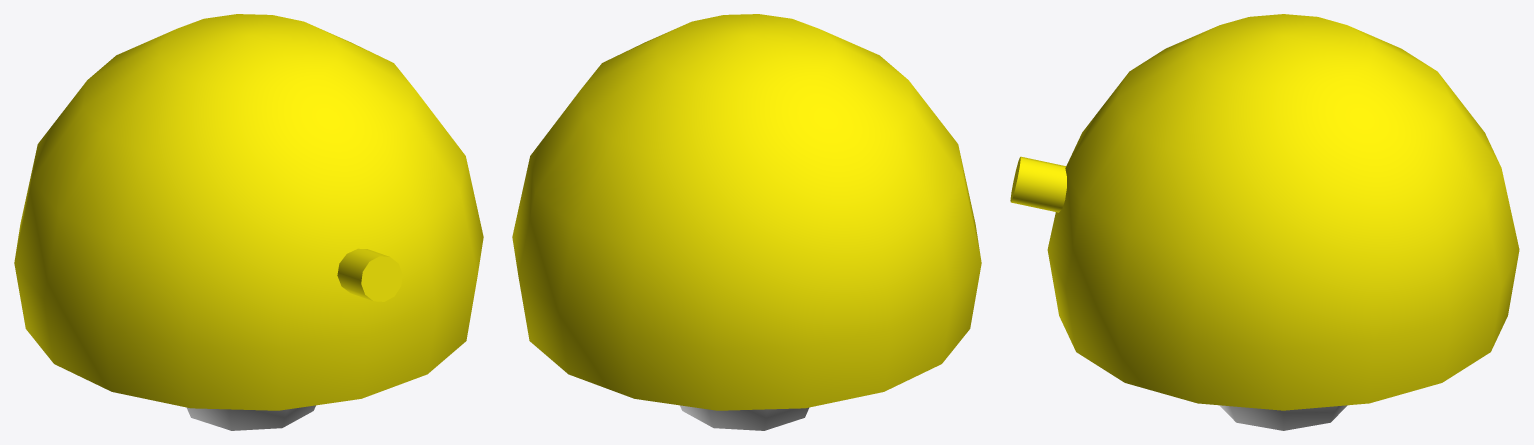
File: Enemy.fbx
3 views of the same model, side by side, from view 1: azimuth 30°, elevation 25°; view 2: azimuth 150°, elevation 25°; view 3: azimuth 270°, elevation 25° (orthographic).
Parts seen in each view (by area): view 1: Sphere001, Cylinder001, Sphere002; view 2: Sphere001, Sphere002; view 3: Sphere001, Cylinder001, Sphere002.
Part boxes in pixels (box(x1,y1,x2,y2)): Sphere001: box(14, 14, 483, 410); Cylinder001: box(337, 248, 402, 301); Sphere002: box(186, 405, 315, 430); Sphere001: box(512, 14, 981, 410); Sphere002: box(680, 405, 809, 430); Sphere001: box(1047, 14, 1519, 410); Cylinder001: box(1010, 156, 1066, 212); Sphere002: box(1219, 405, 1347, 430).
Bounding box in the file's own units: 60 × 64.72 × 54.98.
